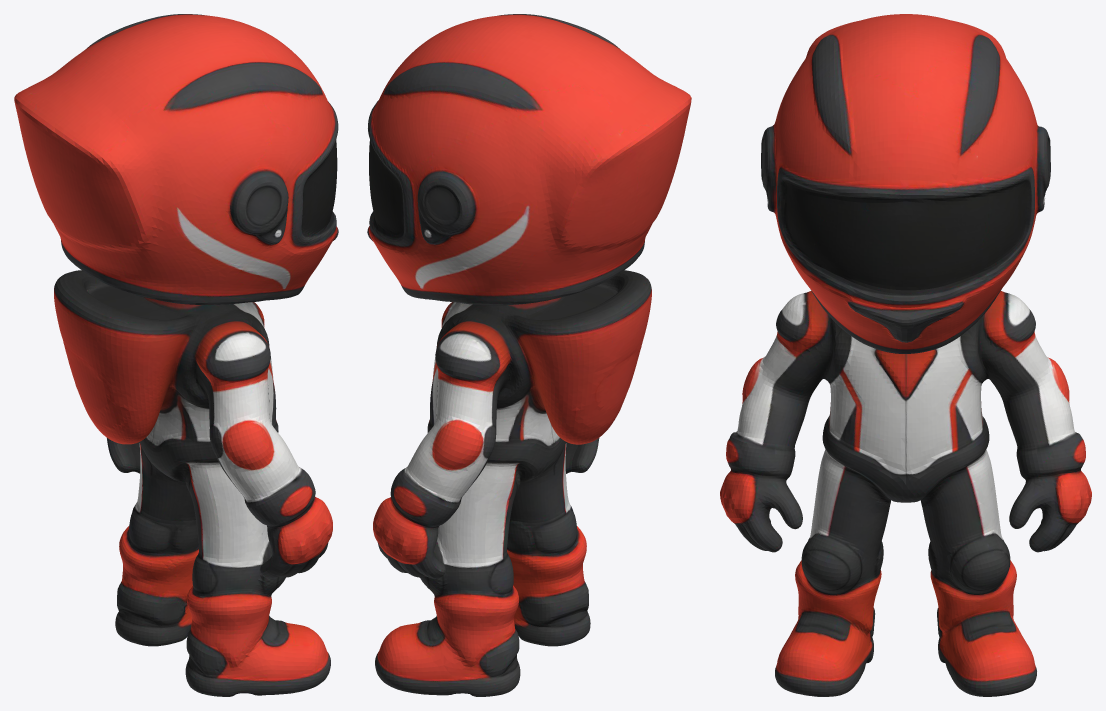
File: male-03.glb
3 views of the same model, side by side, from view 1: azimuth 30°, elevation 25°; view 2: azimuth 150°, elevation 25°; view 3: azimuth 270°, elevation 25° (orthographic).
Visible parts, largest first — view 1: tripo_node_12b9eded-b744-4834-80d8-d08d237e051a; view 2: tripo_node_12b9eded-b744-4834-80d8-d08d237e051a; view 3: tripo_node_12b9eded-b744-4834-80d8-d08d237e051a.
Part boxes in pixels (box(x1,y1,x2,y2)): tripo_node_12b9eded-b744-4834-80d8-d08d237e051a: box(14, 14, 338, 696); tripo_node_12b9eded-b744-4834-80d8-d08d237e051a: box(367, 14, 691, 696); tripo_node_12b9eded-b744-4834-80d8-d08d237e051a: box(720, 14, 1091, 696).
Size of the model in its own units: 0.4745 by 0.9997 by 0.5392.
Materials: 1 (1 with a texture image).
